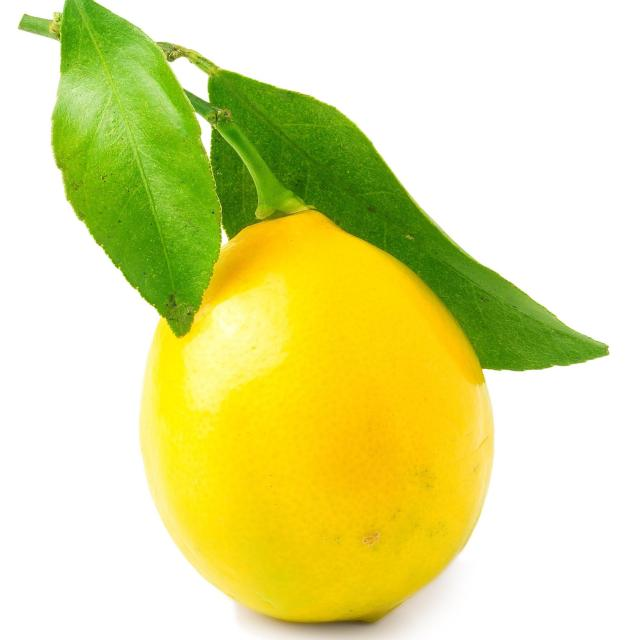lemon: (126, 194, 507, 639)
